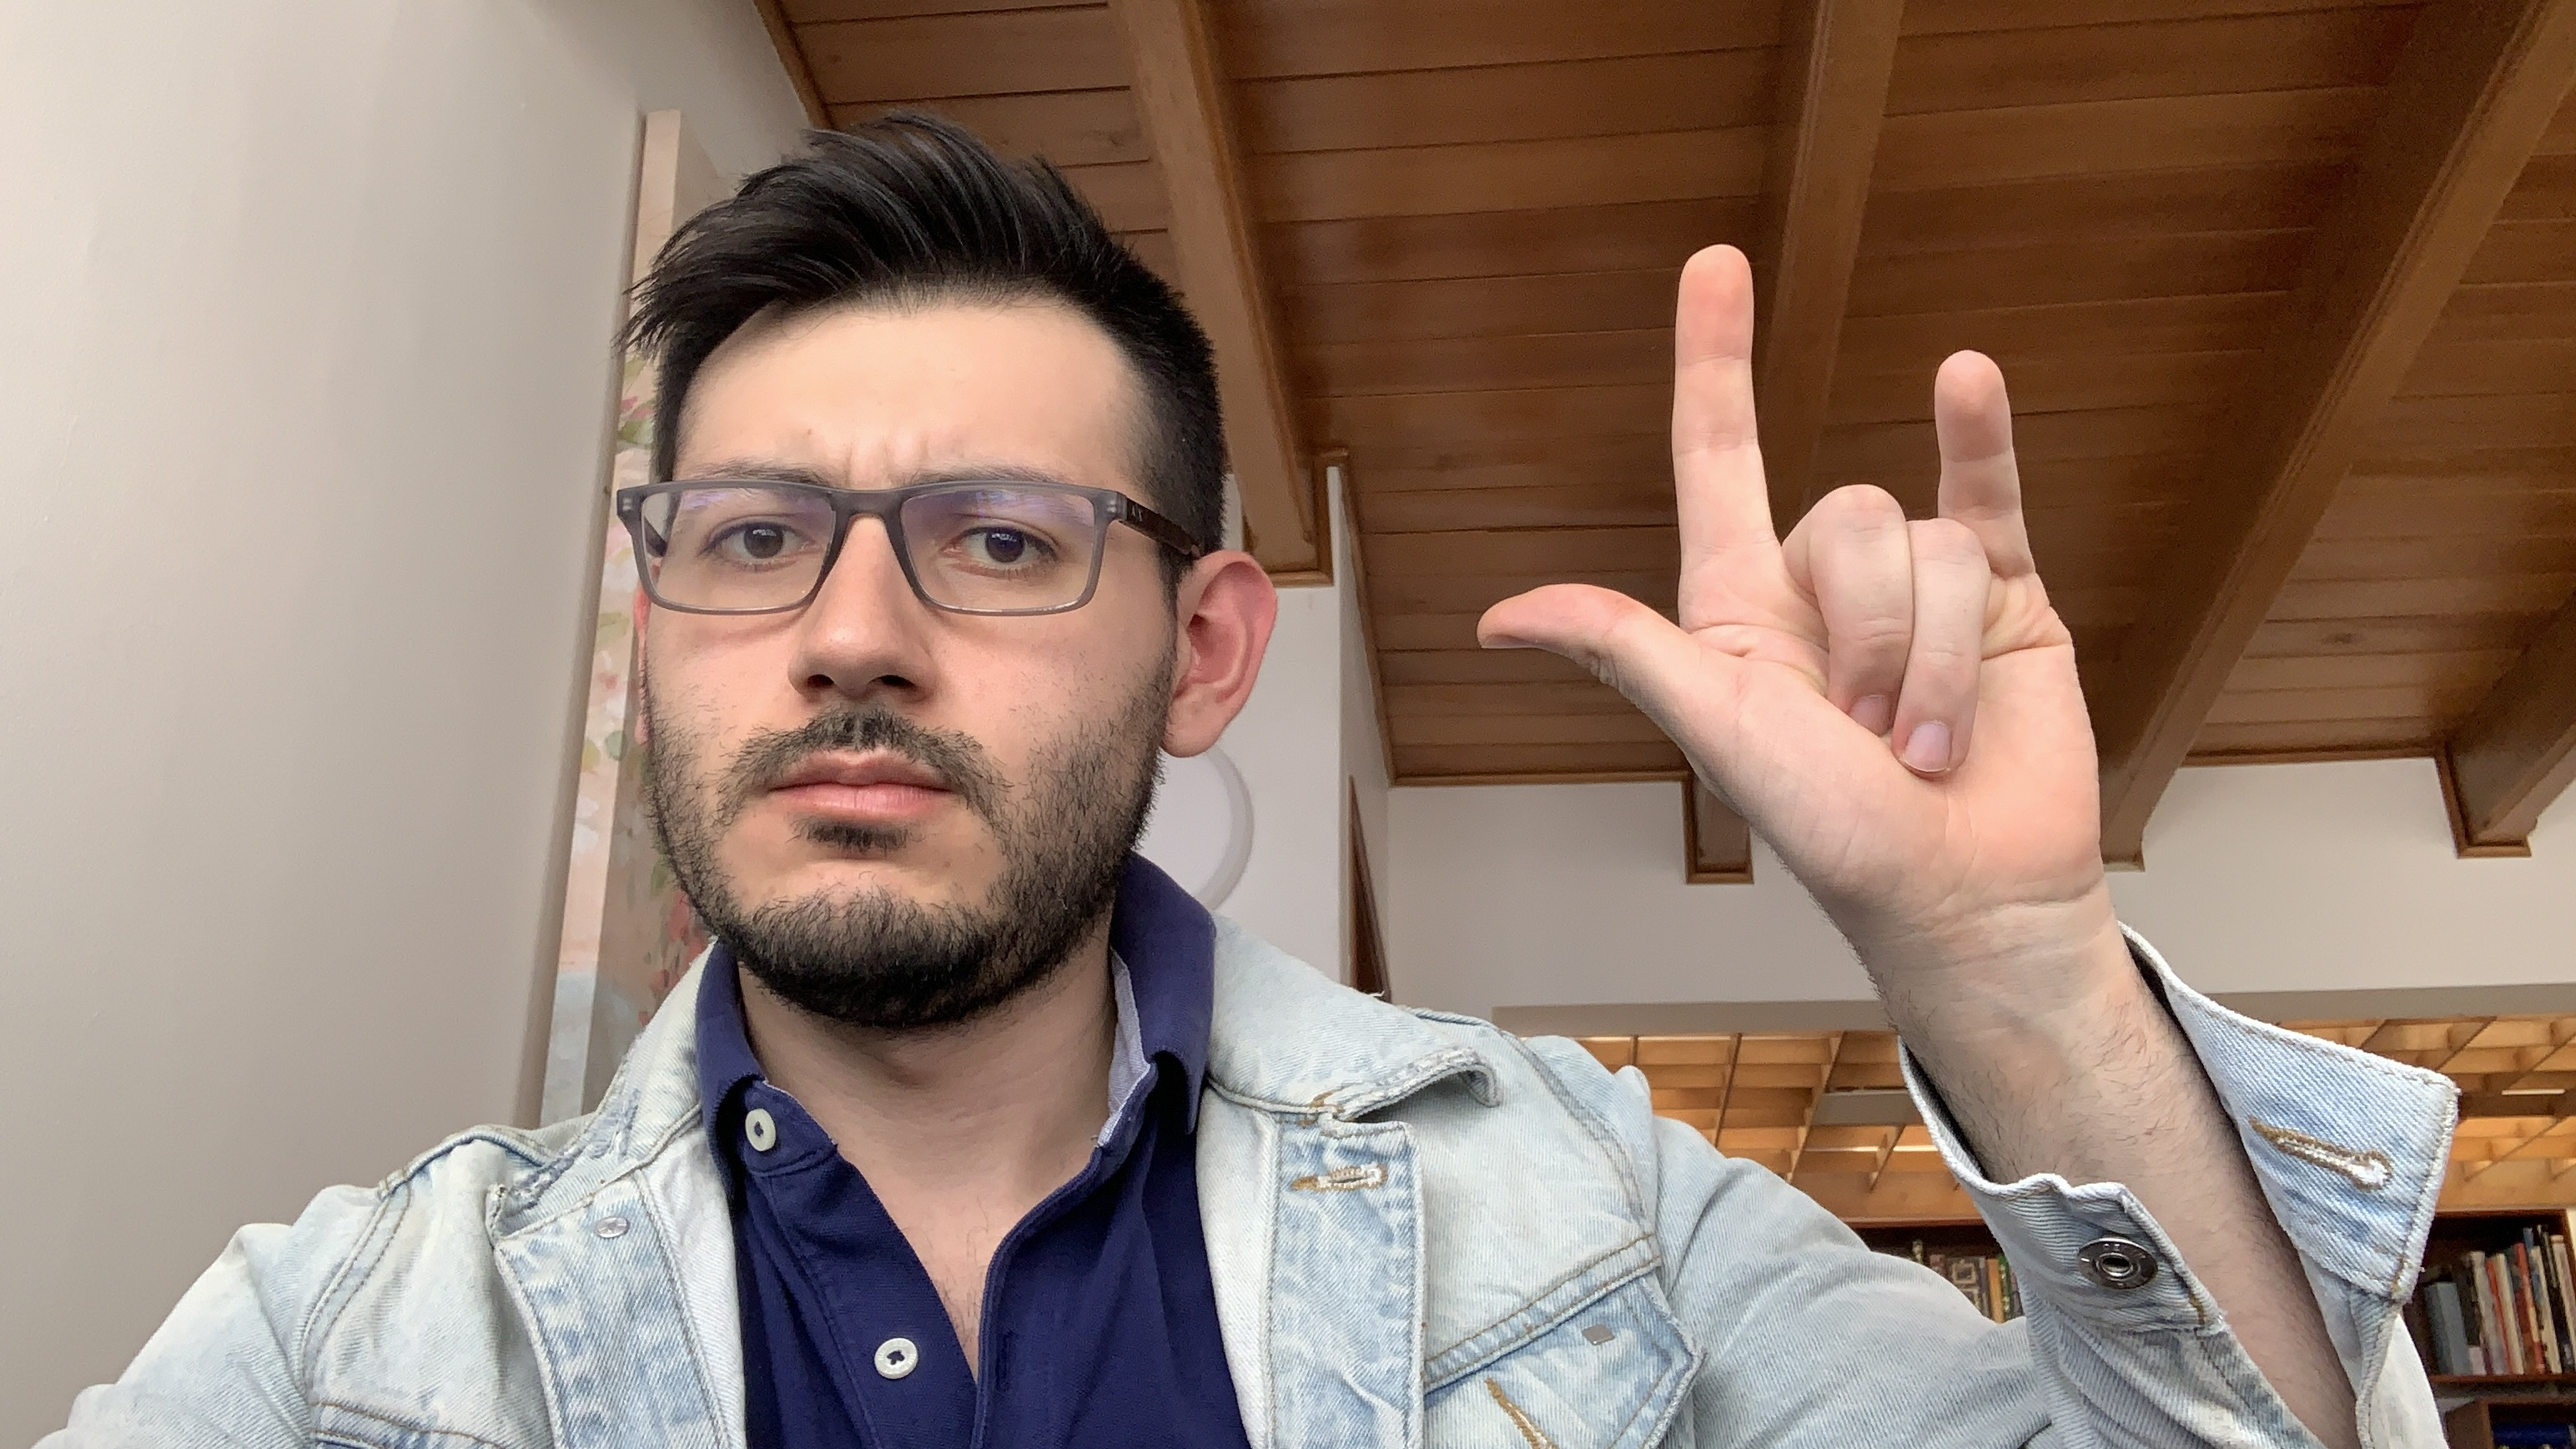I Love You: (1454, 226, 2169, 952)
